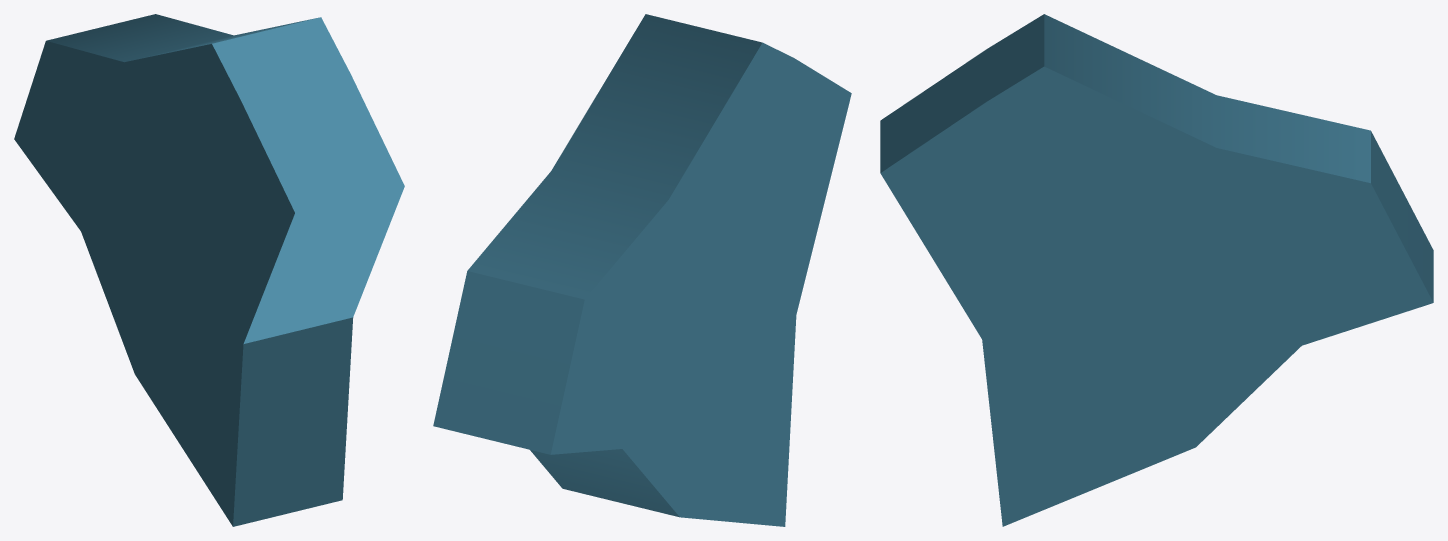
File: NexusC_Trigger_27.fbx
3 views of the same model, side by side, from view 1: azimuth 30°, elevation 25°; view 2: azimuth 150°, elevation 25°; view 3: azimuth 270°, elevation 25° (orthographic). The views are drawn at different scales.
Visible parts, largest first — view 1: polySurface38; view 2: polySurface38; view 3: polySurface38.
Part boxes in pixels (x1,y1,x2,y2): polySurface38: (14,14,404,526); polySurface38: (433,14,851,526); polySurface38: (880,14,1433,526).
Size of the model in its own units: 10.17 by 41.41 by 45.11.
